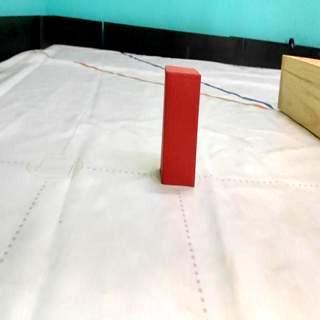redbox: (159, 64, 202, 190)
